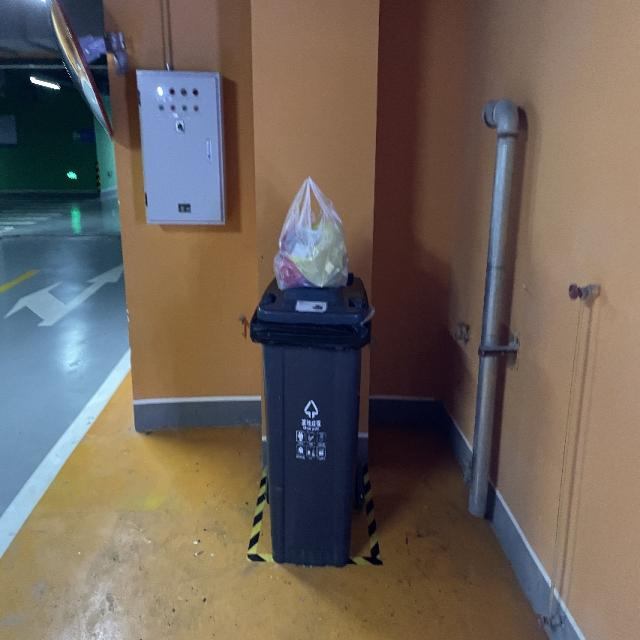overflow: (254, 186, 370, 568)
